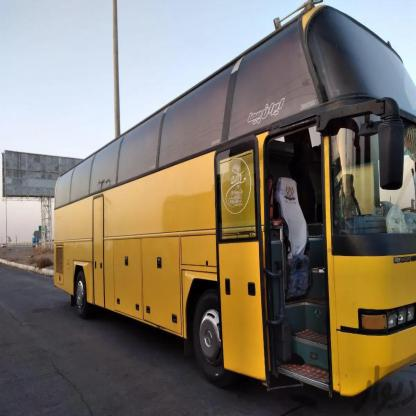Bus: (52, 0, 416, 395)
